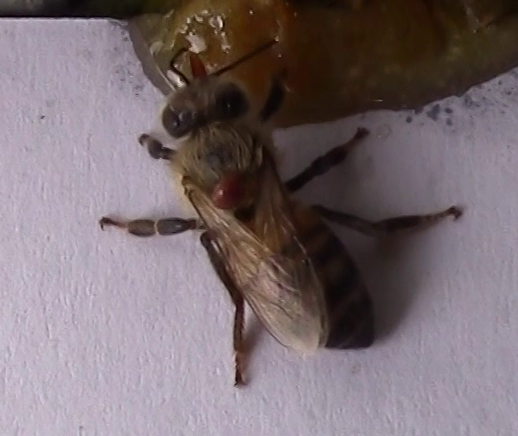Varroa destructor: (209, 169, 249, 211)
